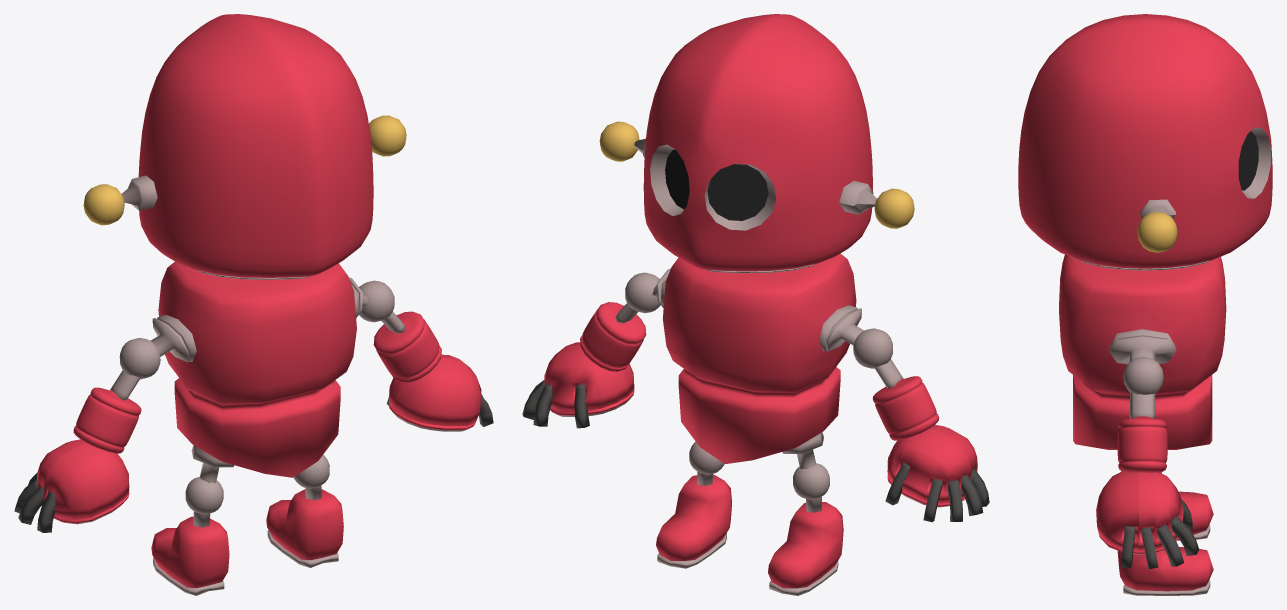
File: robotSaDetaljima.glb
The picture shows the model from 3 angles, left to right: view 1: azimuth 30°, elevation 25°; view 2: azimuth 150°, elevation 25°; view 3: azimuth 270°, elevation 25°; orthographic projection. The views are drawn at different scales.
Parts seen in each view (by area): view 1: Robot; view 2: Robot; view 3: Robot.
Boxes of the visible parts, x1,y1,x2,y2 form: Robot: (14,14,493,595); Robot: (522,14,989,595); Robot: (1018,14,1272,595).
Size of the model in its own units: 1.37 by 1.54 by 0.6546.
